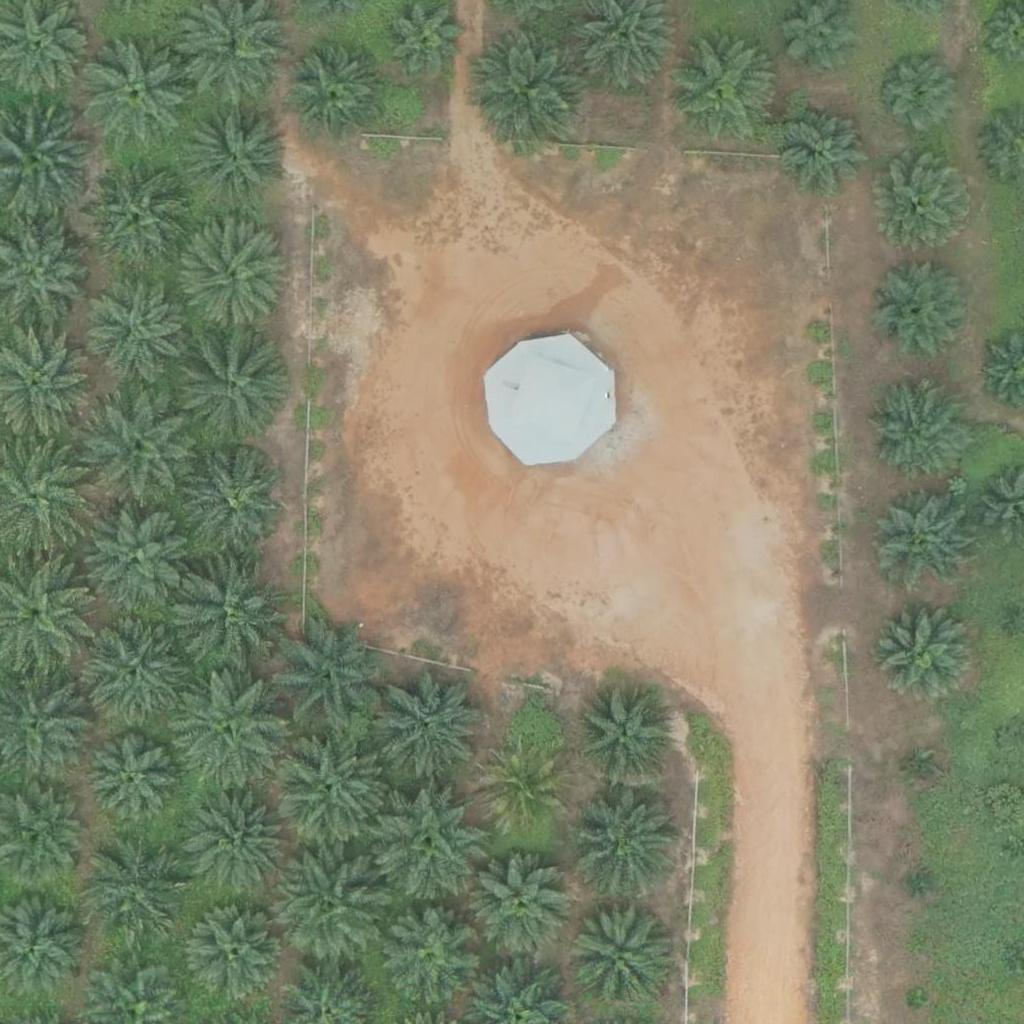Kelapa_Sawit: (376, 670, 489, 784), (374, 786, 487, 900), (274, 621, 387, 735), (80, 37, 193, 150), (77, 159, 190, 272), (180, 98, 293, 211), (180, 221, 293, 334), (175, 333, 288, 446), (475, 32, 588, 145), (83, 392, 195, 506), (667, 32, 779, 146), (274, 727, 386, 841), (177, 560, 289, 674), (571, 785, 683, 898), (271, 852, 383, 965), (174, 674, 286, 787), (78, 619, 190, 732), (80, 504, 192, 617), (865, 379, 965, 480), (873, 490, 973, 591), (871, 598, 971, 699), (573, 685, 673, 786), (185, 791, 285, 892), (186, 904, 286, 1005), (85, 836, 185, 937), (86, 279, 186, 379), (185, 452, 285, 552), (875, 153, 975, 253), (870, 260, 970, 360), (568, 905, 668, 1005), (474, 858, 574, 958), (380, 908, 480, 1008), (291, 50, 379, 139), (784, 105, 872, 193), (479, 748, 567, 836), (874, 49, 961, 137), (87, 738, 174, 826), (386, 1, 461, 76), (908, 758, 933, 783), (908, 871, 933, 896), (904, 989, 929, 1014)
